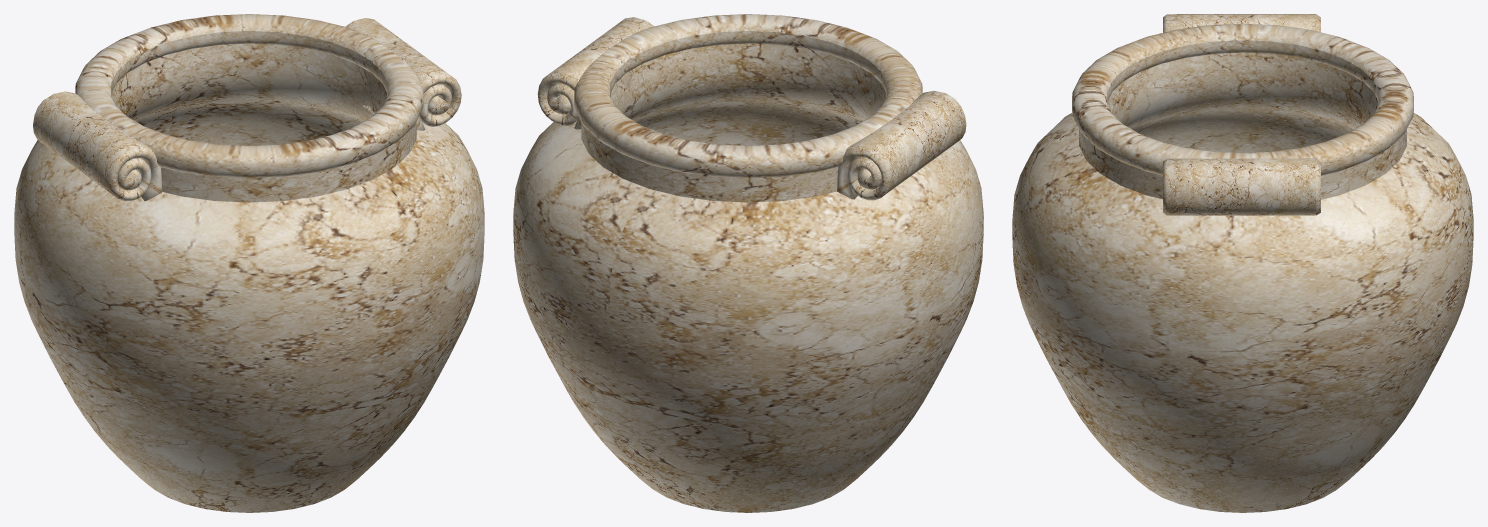
Rendered from Pottery-2.obj.
3 views of the same model, side by side, from view 1: azimuth 30°, elevation 25°; view 2: azimuth 150°, elevation 25°; view 3: azimuth 270°, elevation 25° (orthographic).
Parts seen in each view (by area): view 1: Line01, Loft01, Loft02; view 2: Line01, Loft01, Loft02; view 3: Line01, Loft02, Loft01.
Boxes of the visible parts, bbox=[...] form: Line01: bbox=[14, 14, 484, 512]; Loft01: bbox=[33, 91, 161, 201]; Loft02: bbox=[345, 18, 461, 130]; Line01: bbox=[513, 14, 983, 512]; Loft01: bbox=[837, 90, 966, 200]; Loft02: bbox=[537, 17, 654, 129]; Line01: bbox=[1012, 24, 1473, 512]; Loft02: bbox=[1163, 158, 1320, 215]; Loft01: bbox=[1163, 14, 1320, 32].
Bounding box in the file's own units: 31.65 × 28.38 × 31.48.
